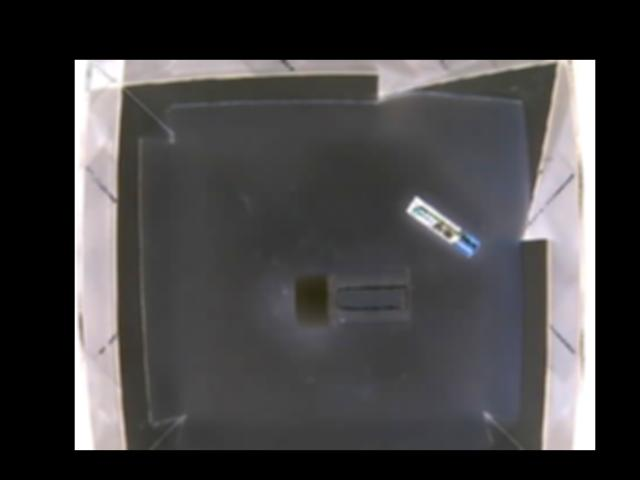Battery: (404, 197, 479, 255)
Bottle: (295, 268, 413, 324)
